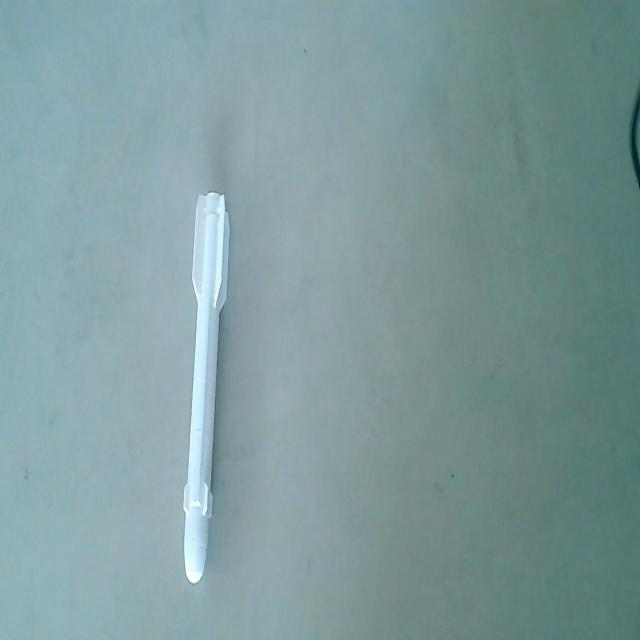Rocket: (183, 186, 231, 588)
